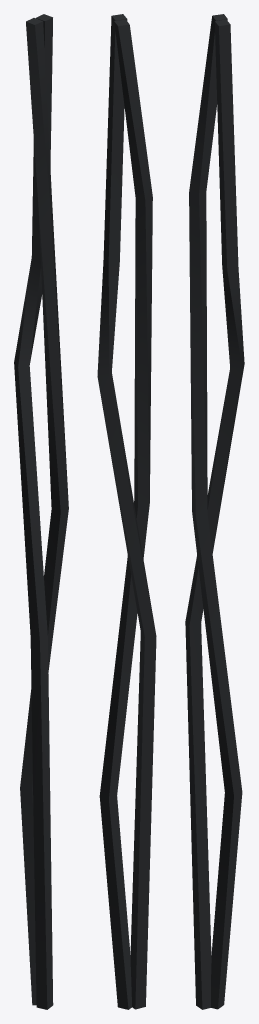
Rendered from SM_Prop_Wire_Pole_01.fbx.
3 renders of one model, left to right at view 1: azimuth 90°, elevation 25°; view 2: azimuth 150°, elevation 25°; view 3: azimuth 330°, elevation 25°, orthographic.
Parts seen in each view (by area): view 1: SM_Prop_Wire_Pole_01; view 2: SM_Prop_Wire_Pole_01; view 3: SM_Prop_Wire_Pole_01.
Boxes of the visible parts, x1,y1,x2,y2 form: SM_Prop_Wire_Pole_01: (14, 14, 68, 1009); SM_Prop_Wire_Pole_01: (97, 14, 156, 1009); SM_Prop_Wire_Pole_01: (185, 14, 244, 1009).
Bounding box in the file's own units: 17.18 × 308 × 15.64.
